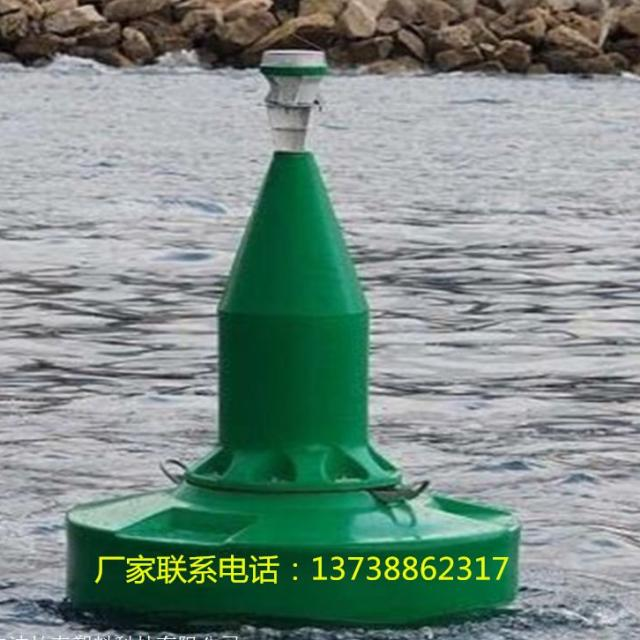buoy: (58, 40, 519, 625)
